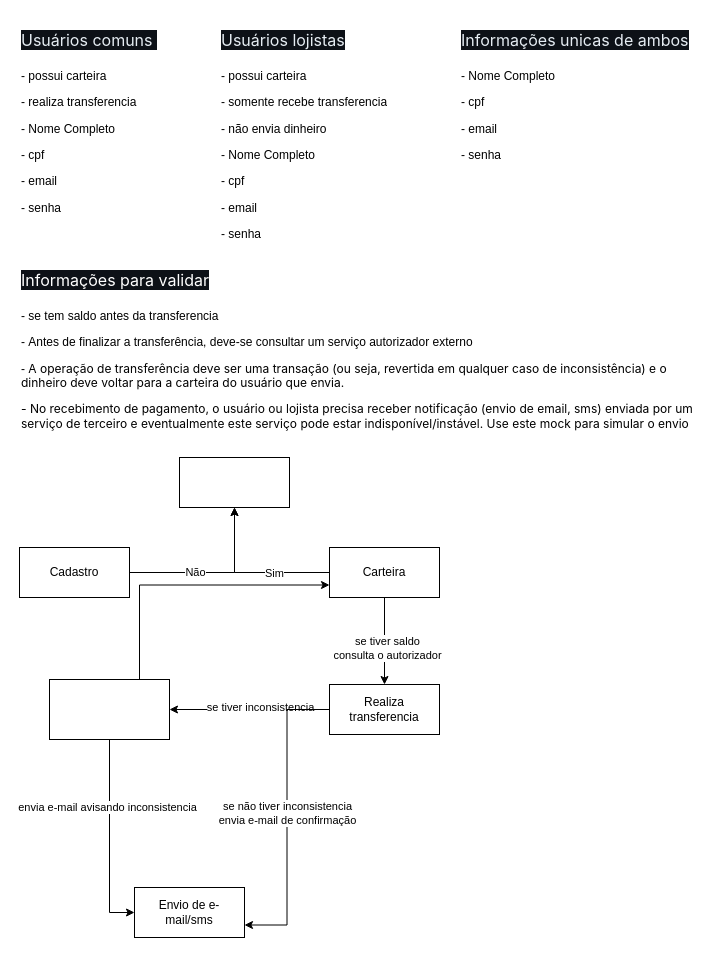
This 716x955 diagram has some shape labels left out. Each missing label, with the centre of its shape:
"Login" belongs at (234,482).
"Retorna o valor para quem enviou" belongs at (109,709).
